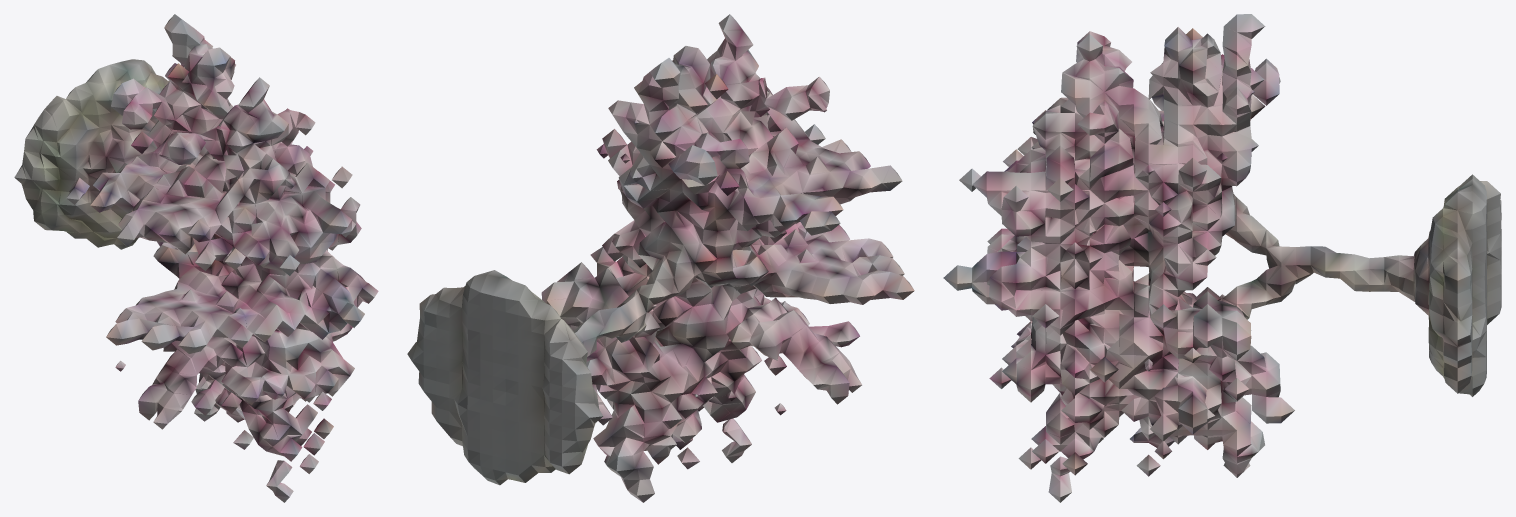
3 views of the same model, side by side, from view 1: azimuth 30°, elevation 25°; view 2: azimuth 150°, elevation 25°; view 3: azimuth 270°, elevation 25° (orthographic). The views are drawn at different scales.
Parts seen in each view (by area): view 1: world; view 2: world; view 3: world.
Boxes of the visible parts, x1,y1,x2,y2 form: world: [14, 14, 378, 502]; world: [407, 14, 914, 502]; world: [943, 14, 1501, 502].
Size of the model in its own units: 0.6835 by 0.9866 by 1.05.
